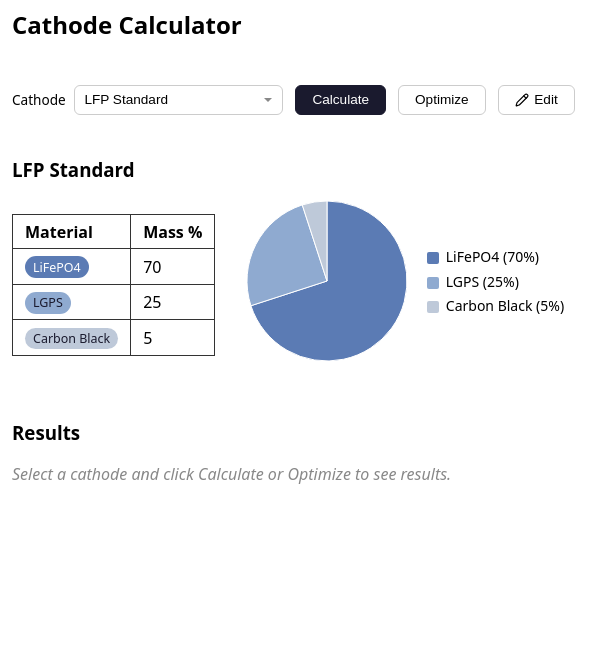
Test: OptimizerView › displays all four result categories after Calculate
Click the button "Calculate" at [341, 100], box [295,85,386,115]
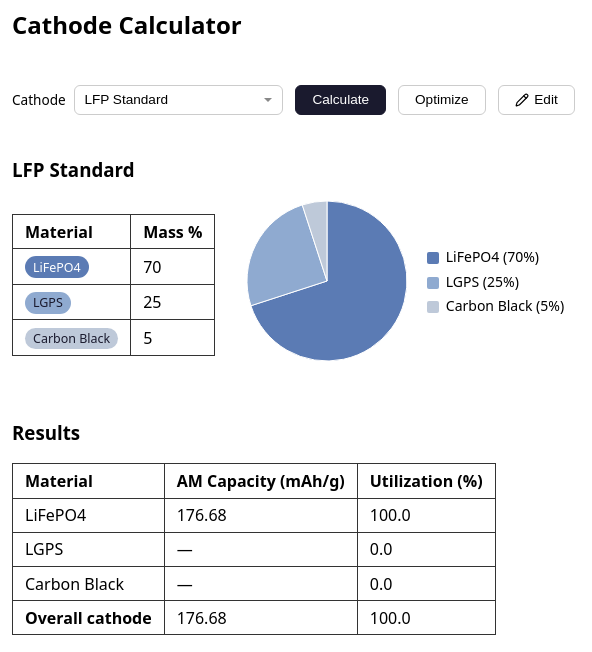
Expected: the column heading "AM Capacity (mAh/g)" is shown, [164,464,357,498]
Expected: the column heading "Utilization (%)" is shown, [357,464,495,498]
Expected: the text "Overall cathode" is shown, [25,607,152,629]
